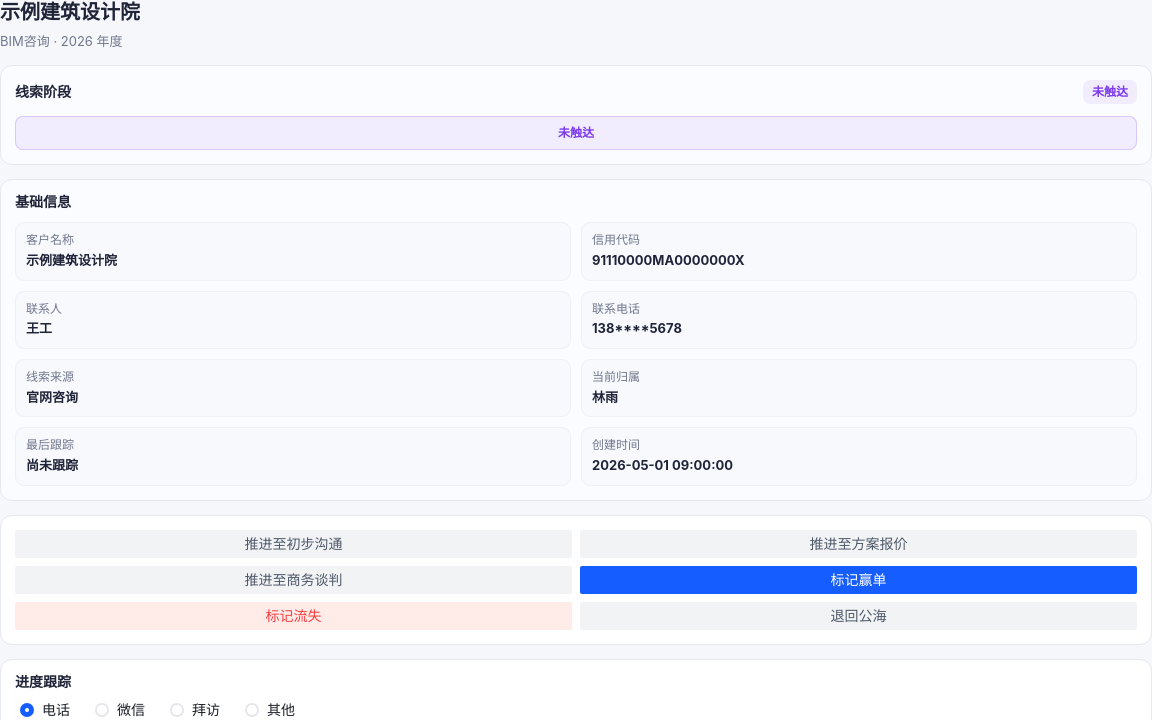
Test: 阶段/赢单/流失（R5） › 合法赢单后阶段=已赢单且预览千分位
Click the button with class "win-open" at (858, 580), box [580, 566, 1137, 594]
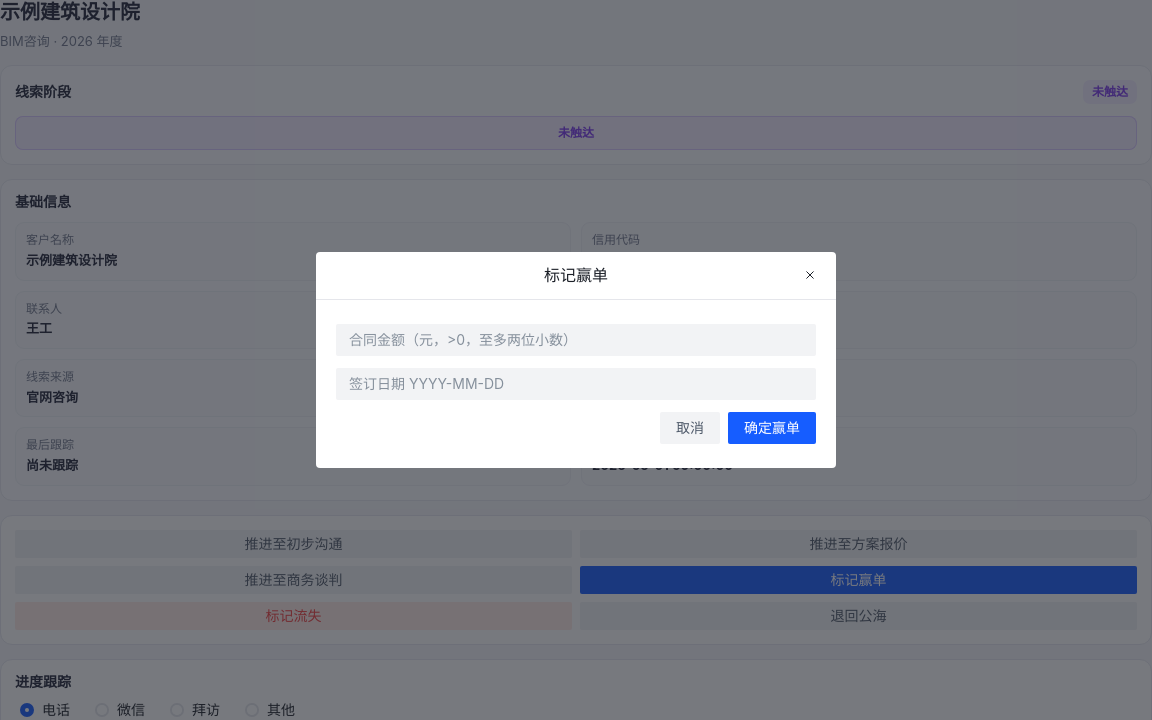
Type "1234567.5" into the field with placeholder "合同金额（元，>0，至多两位小数）" at (576, 340), box [349, 325, 803, 355]
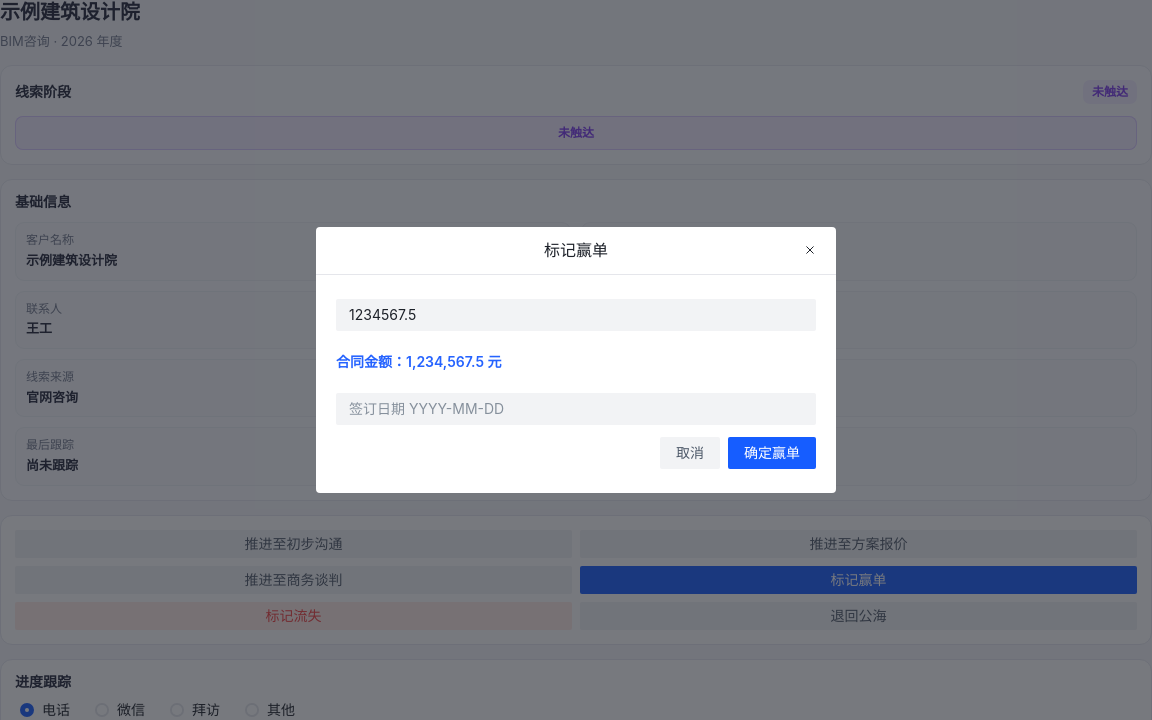
Expected: the text with class "win-preview" shows "1,234,567.5", [336, 353, 502, 370]
Type "2026-05-10" into the field with placeholder "签订日期 YYYY-MM-DD" at (576, 409), box [349, 394, 803, 424]
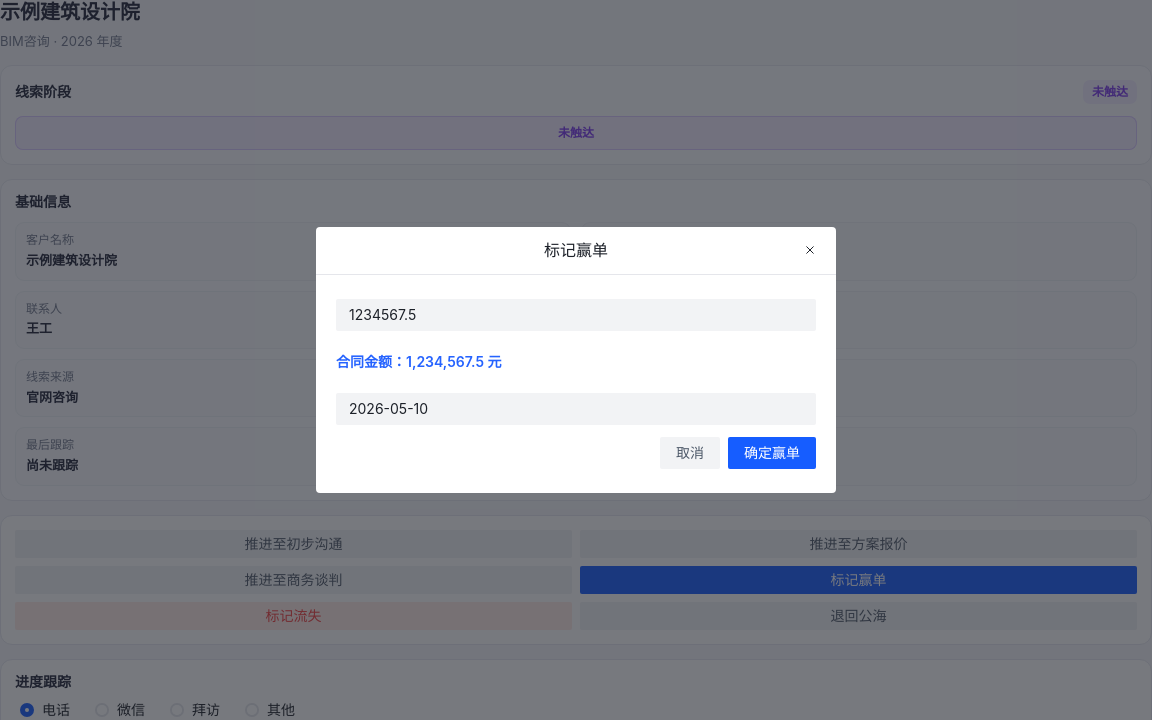
Click the button with class "win-confirm" at (772, 453), box [728, 437, 816, 469]
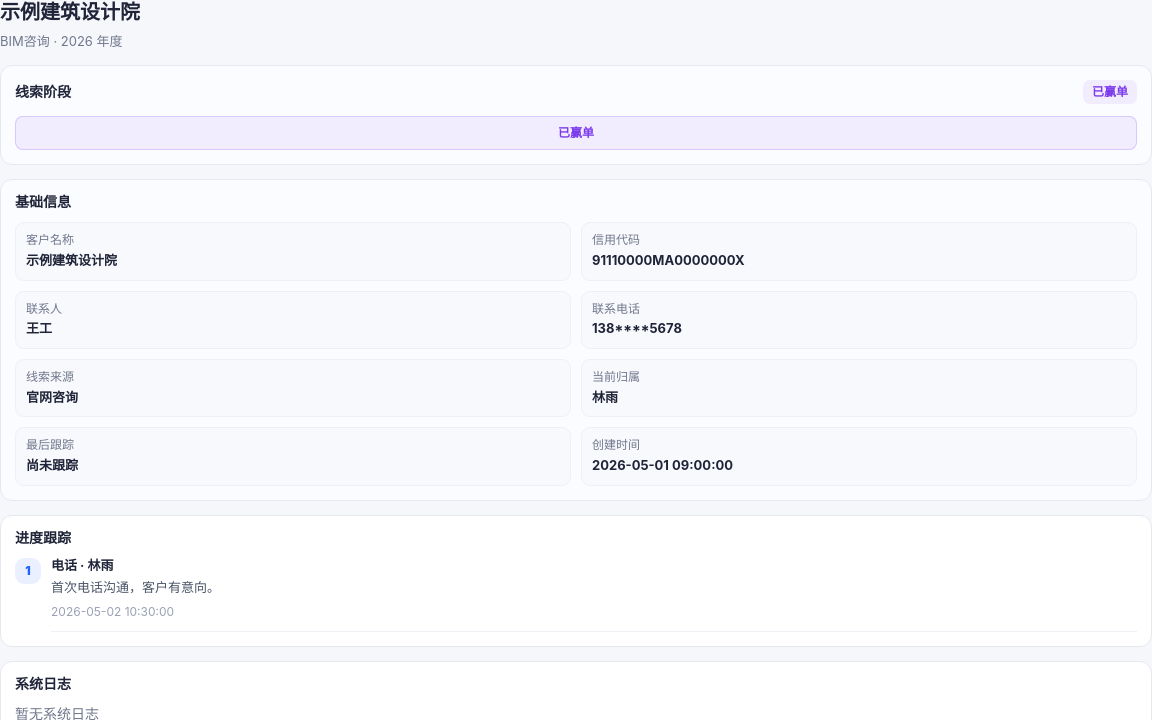
Expected: the text "已赢单" is shown, [1083, 80, 1137, 104]
